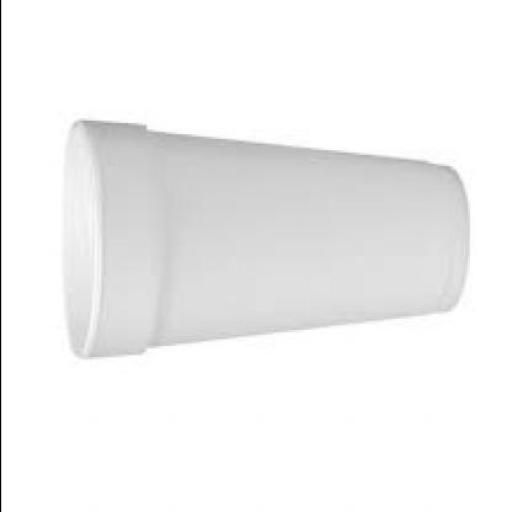paper: (63, 120, 467, 362)
